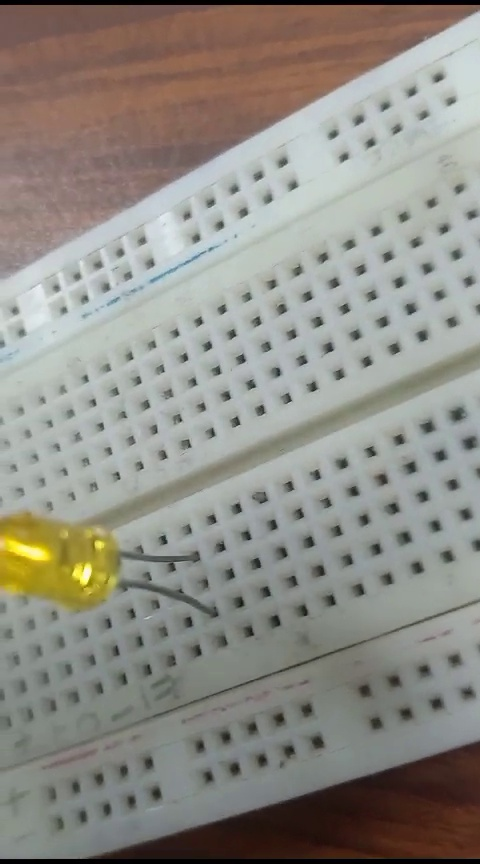LED: (2, 497, 203, 639)
